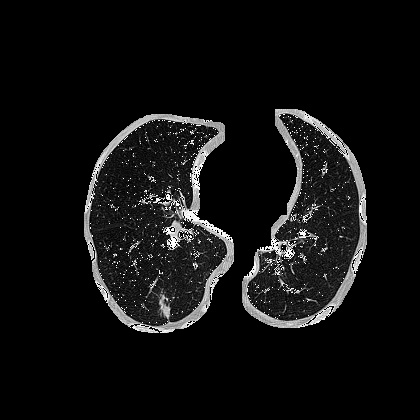PN: (157, 299, 169, 311)
